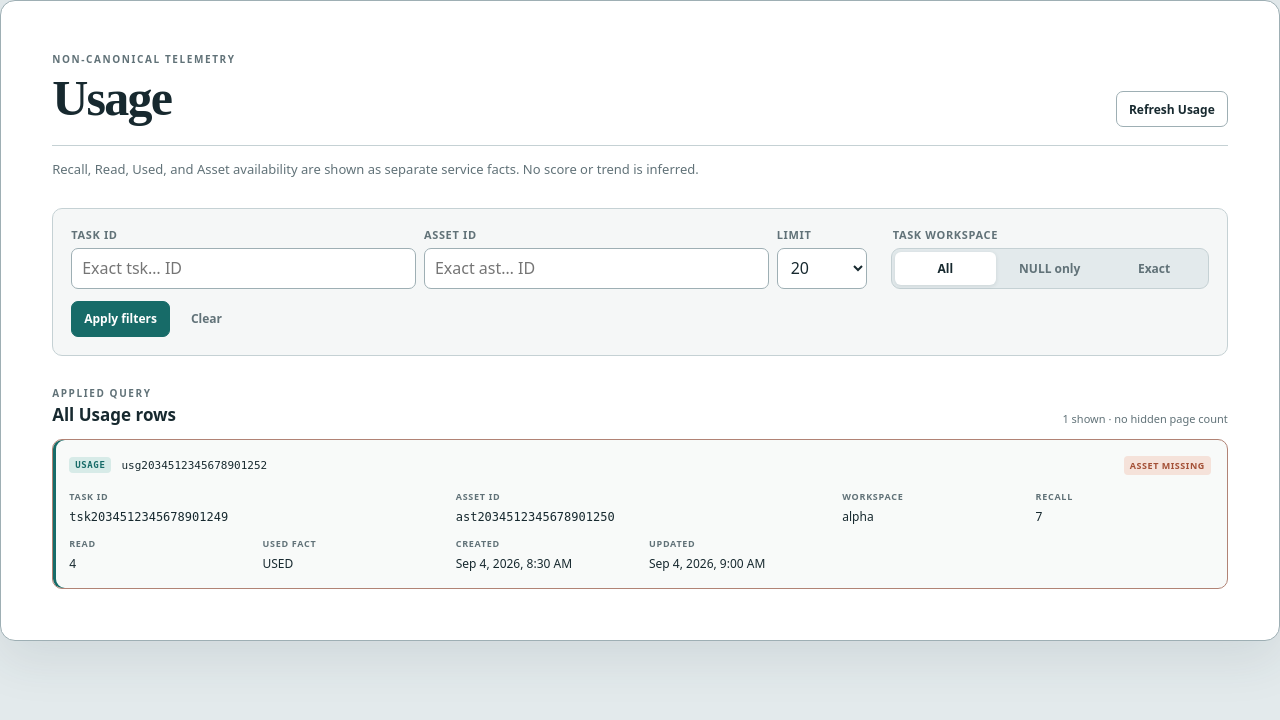
Test: Usage view › does not send whitespace-only or padded exact values
Step 1. Type " padded " into the field labelled "Task ID" → (244, 268), box [71,248,416,289]
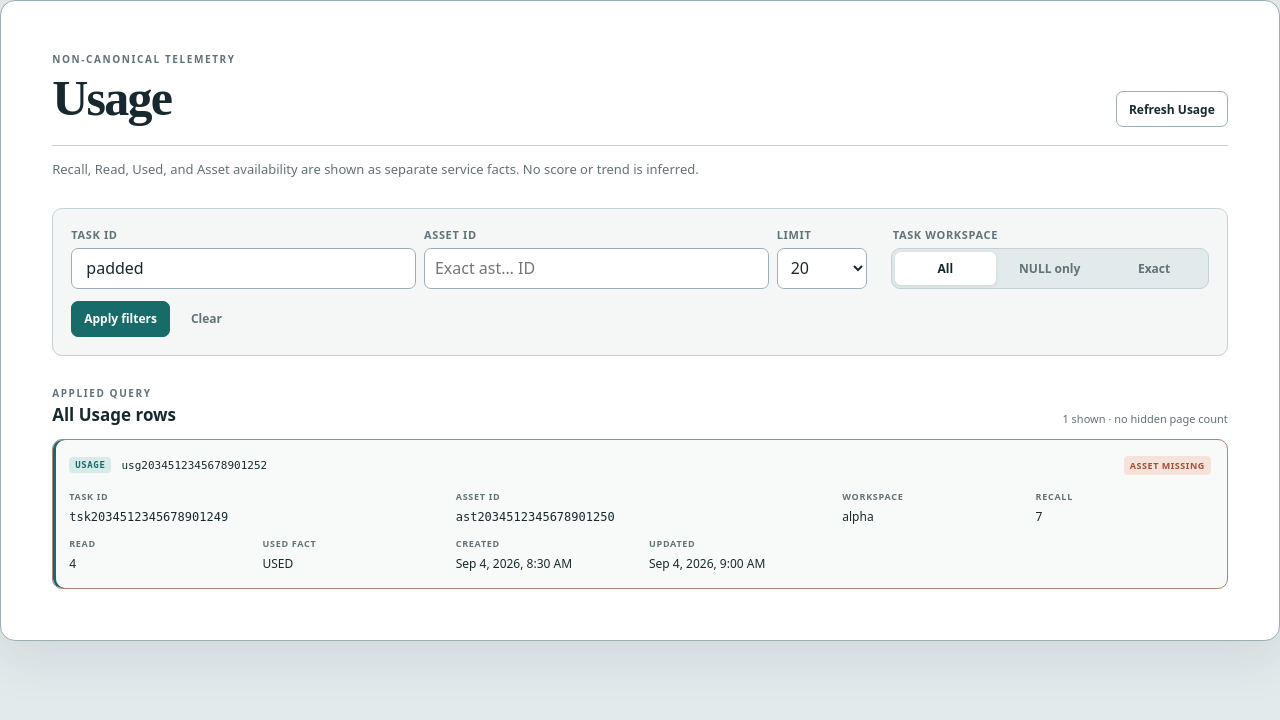
Step 2. Submit the form, box [52,208,1228,356]
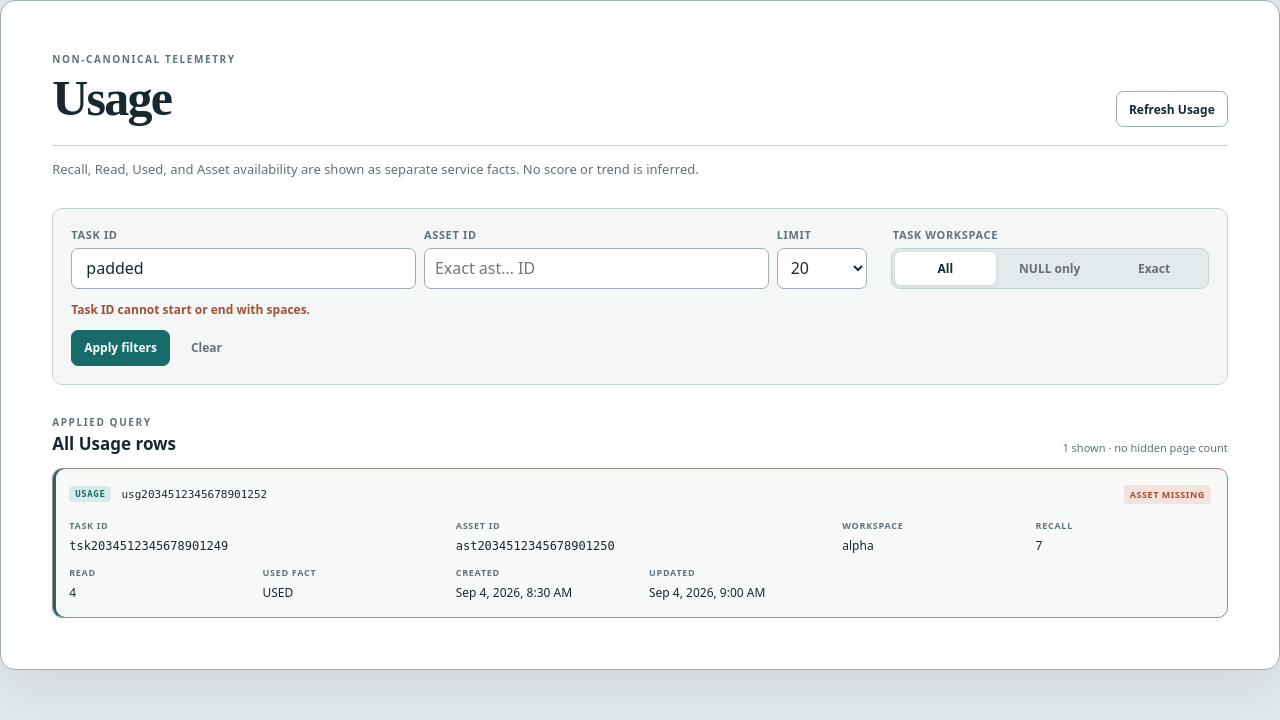
Expected: the text "Task ID cannot start or end with spaces" is shown, [71,301,310,318]
Step 3. Clear the field labelled "Task ID" → (244, 268), box [71,248,416,289]
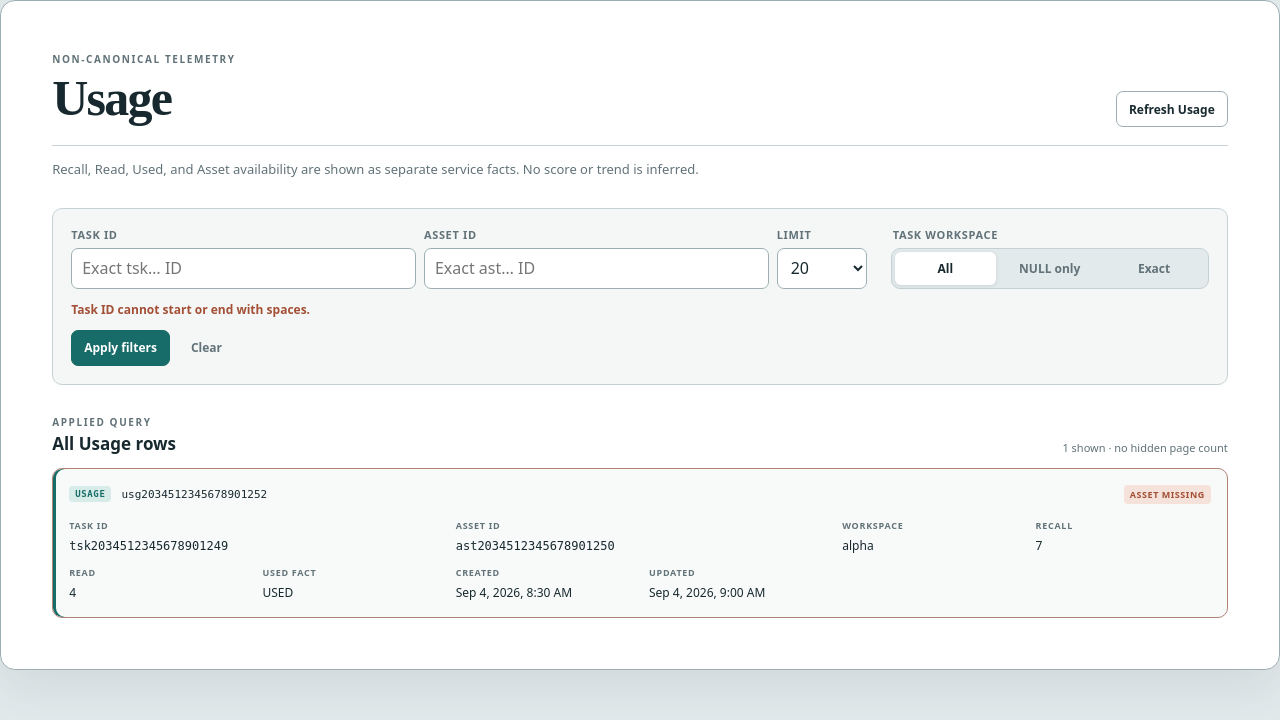
Step 4. Click the button "Exact" → (1154, 268), box [1103,252,1205,285]
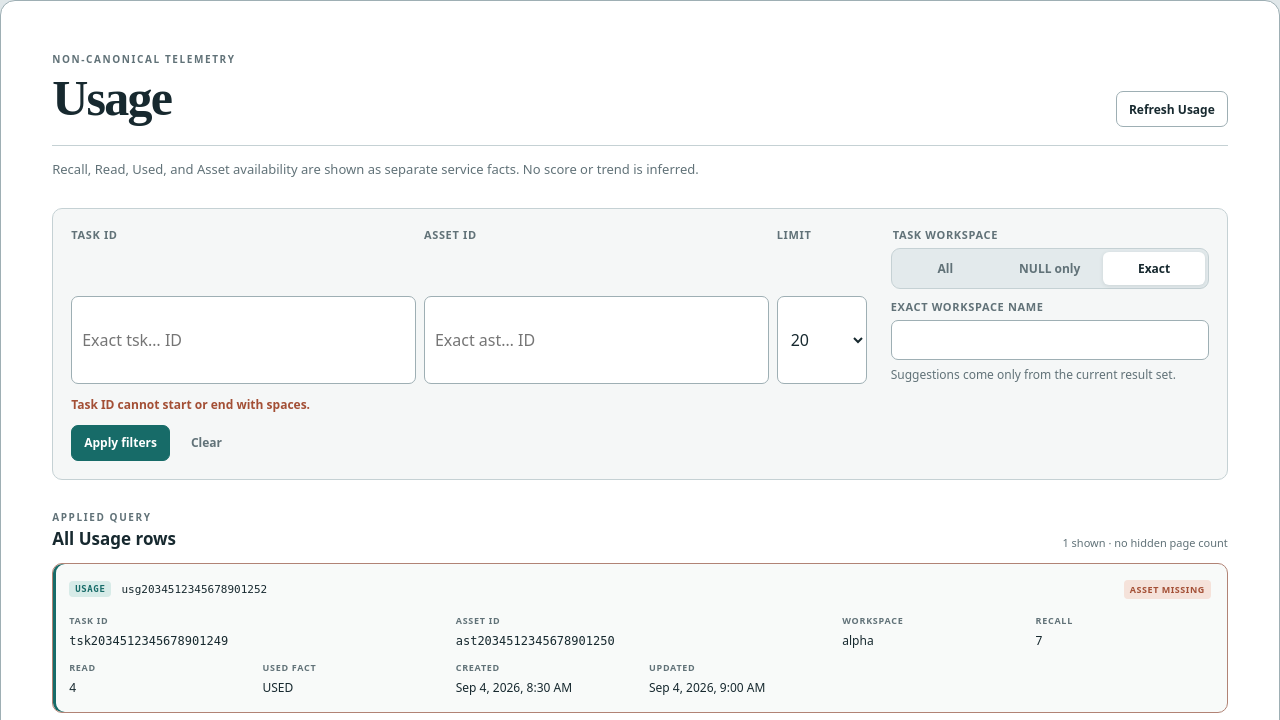
Step 5. Submit the form, box [52,208,1228,480]
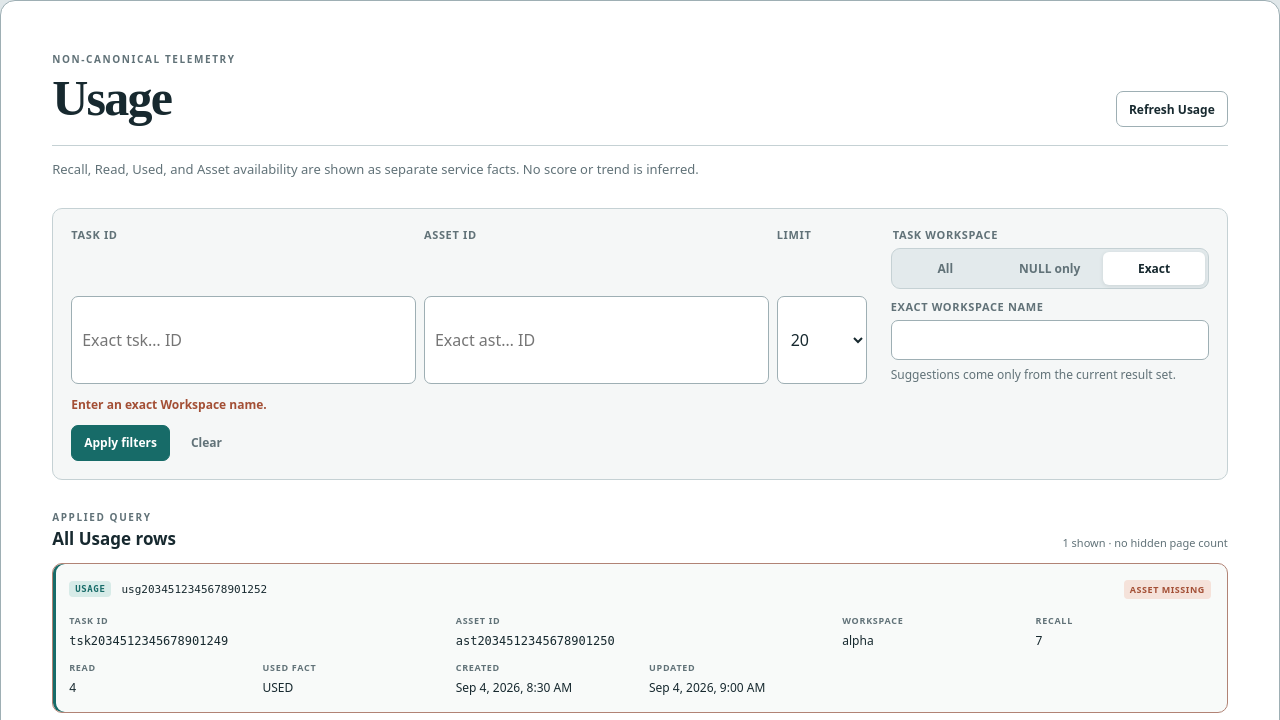
Expected: the text "Enter an exact Workspace name" is shown, [71,396,267,413]
